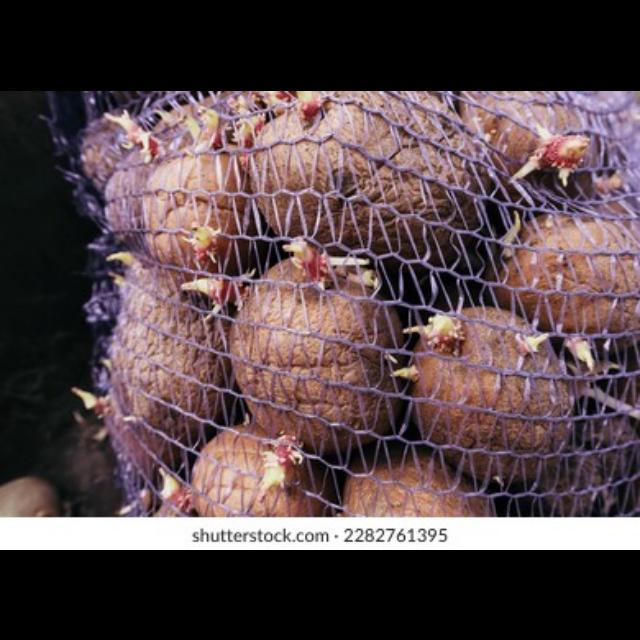Sprouted potato: (187, 235, 403, 460), (237, 90, 497, 274), (389, 283, 596, 489), (86, 248, 228, 482), (115, 115, 269, 289), (488, 210, 640, 338), (182, 414, 326, 518)
